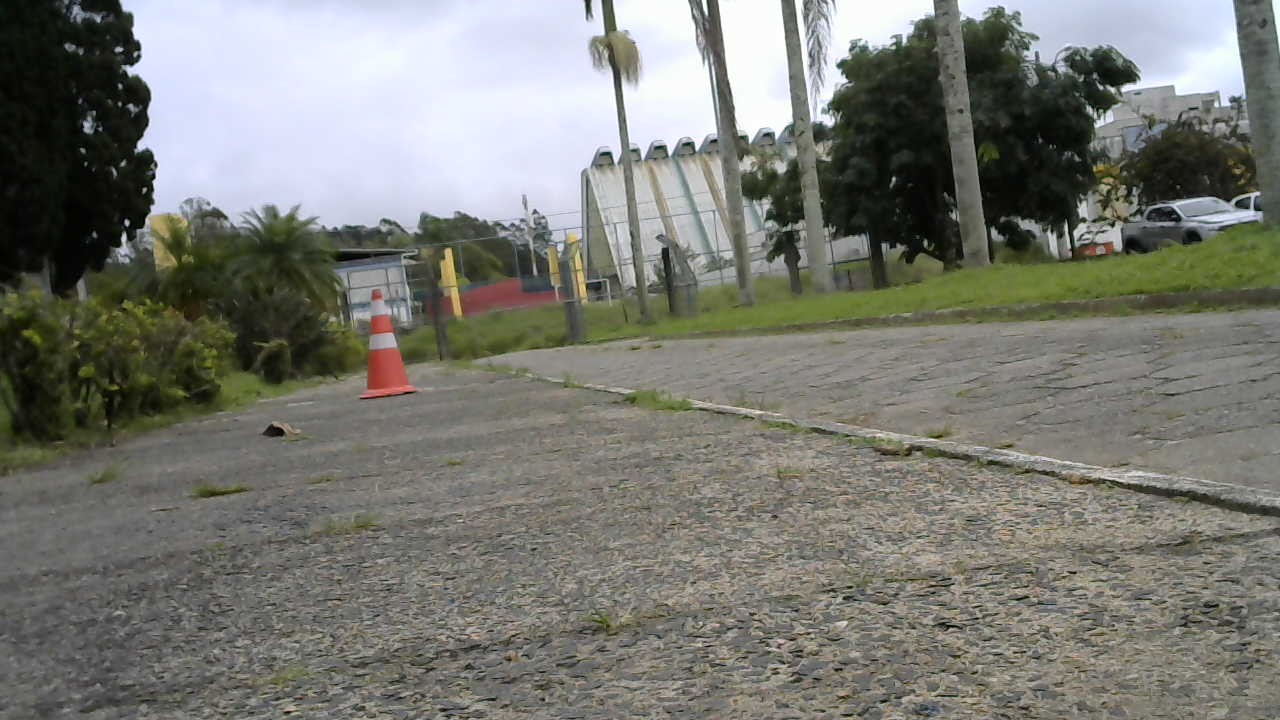cone: (360, 289, 418, 400)
